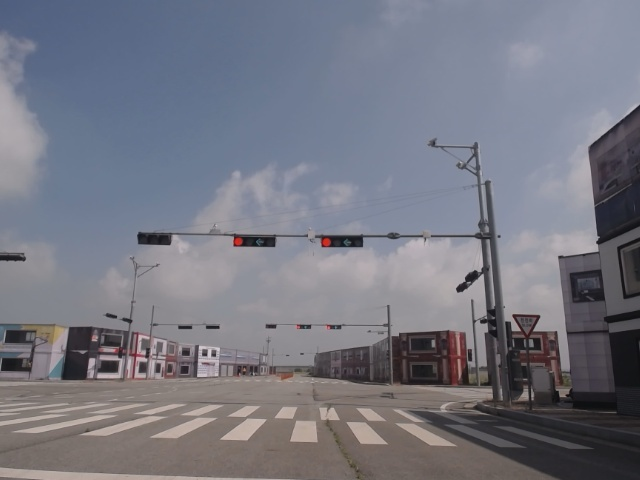left_green_4: (233, 235, 276, 247), (321, 236, 363, 247)
